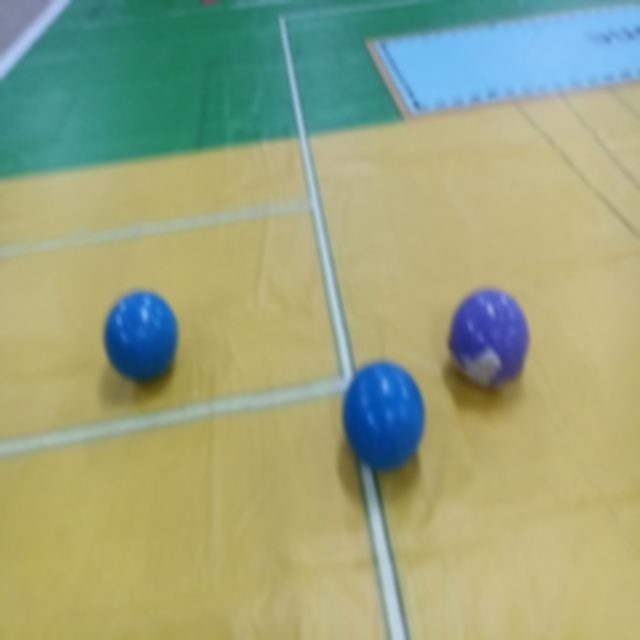blue_ball: (338, 336, 427, 485), (100, 284, 182, 400)
purple_ball: (450, 288, 533, 386)
